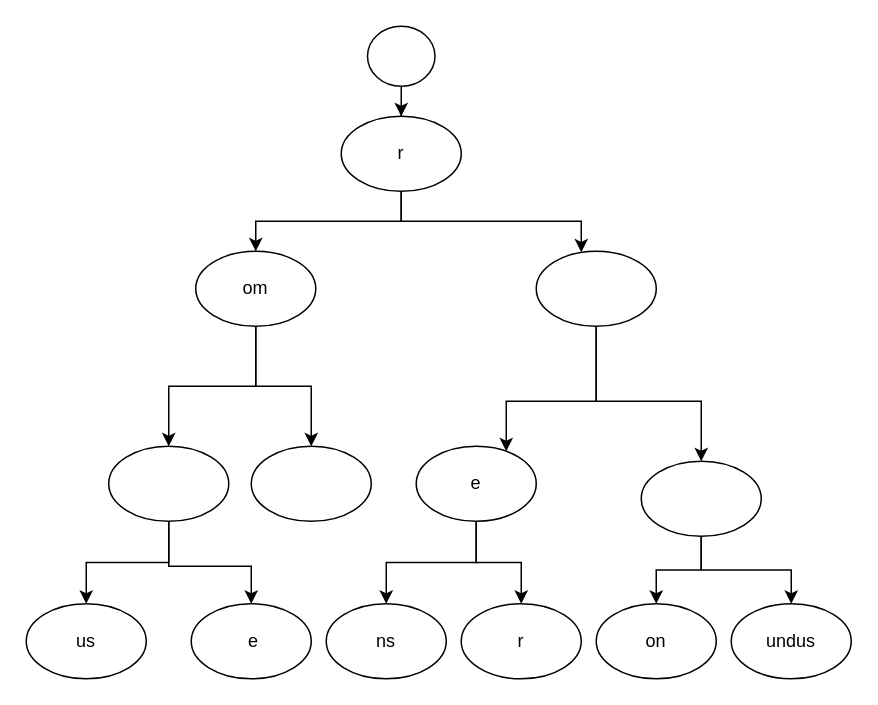
This 878x705 diagram has some shape labels left out. Here are the shapes that lost their labels. From the top down, the centre of each, then its label:
At [400,55]: "root".
At [595,288]: "ub".
At [168,483]: "an".
At [310,483]: "ulus".
At [700,498]: "ic".
